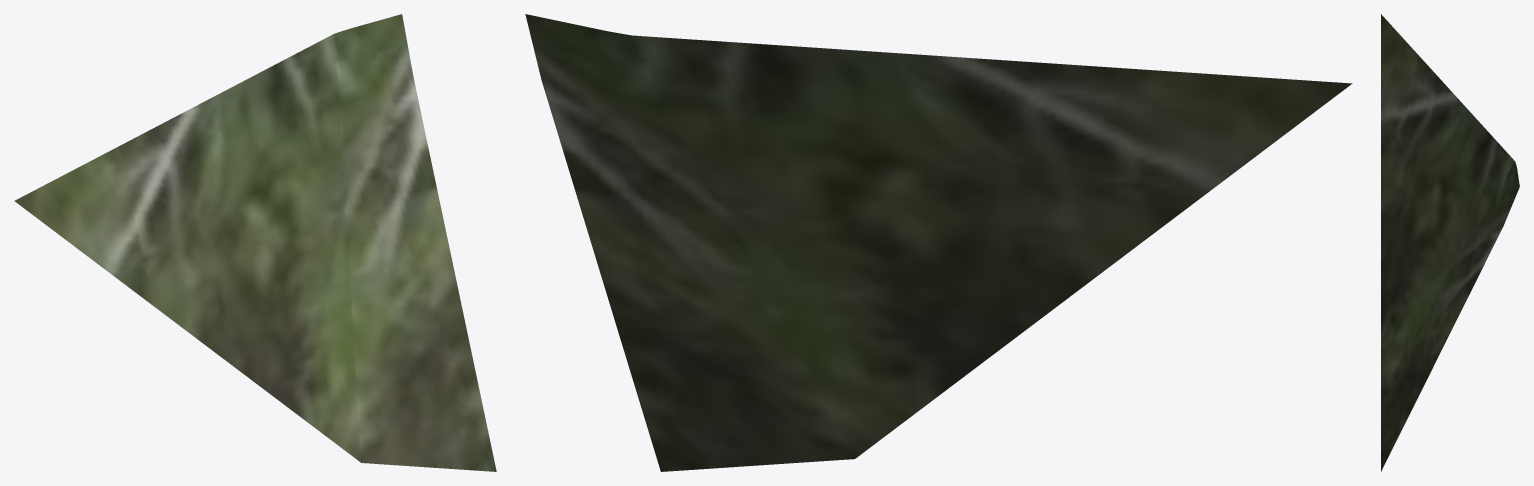
3 views of the same model, side by side, from view 1: azimuth 30°, elevation 25°; view 2: azimuth 150°, elevation 25°; view 3: azimuth 270°, elevation 25° (orthographic). The views are drawn at different scales.
Size of the model in its own units: 1.05 by 0.8099 by 0.3572.
Materials: 1 (1 with a texture image).
